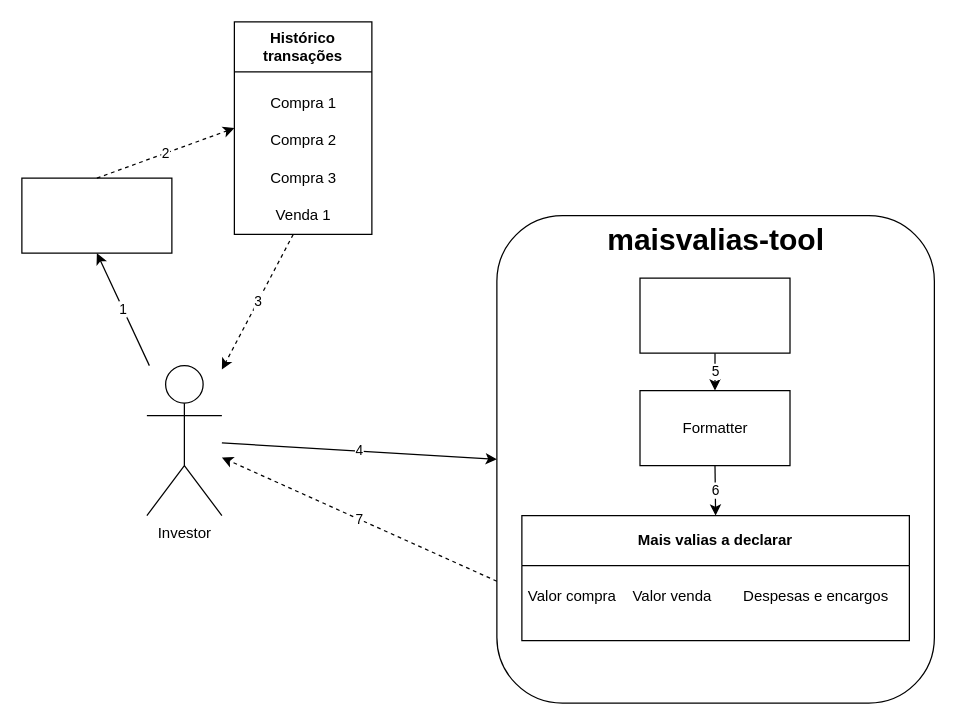
Image size: 956x725. Some labels were removed from this diagram. The shapes that lost their labels are listed below. From the top down, each one's centre as x and y in pixels, then its label:
the point at 96,215: Corretora
the point at 714,315: Parser
